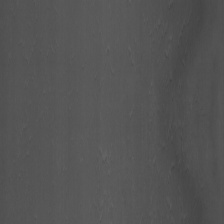silk_spot: (146, 35, 178, 110), (98, 42, 139, 77)
